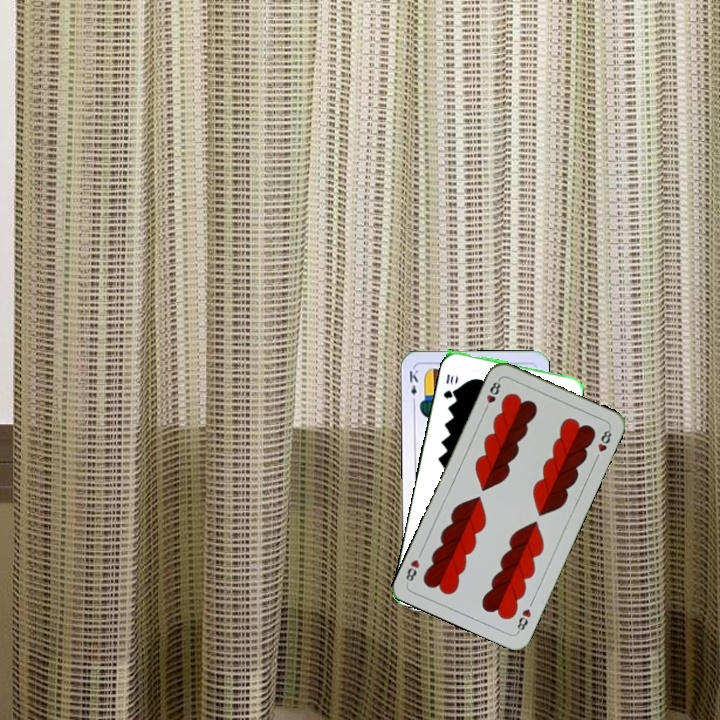EK: (405, 366, 421, 406)
G10: (439, 370, 457, 401)
H8: (480, 375, 503, 414), (513, 604, 534, 635)
